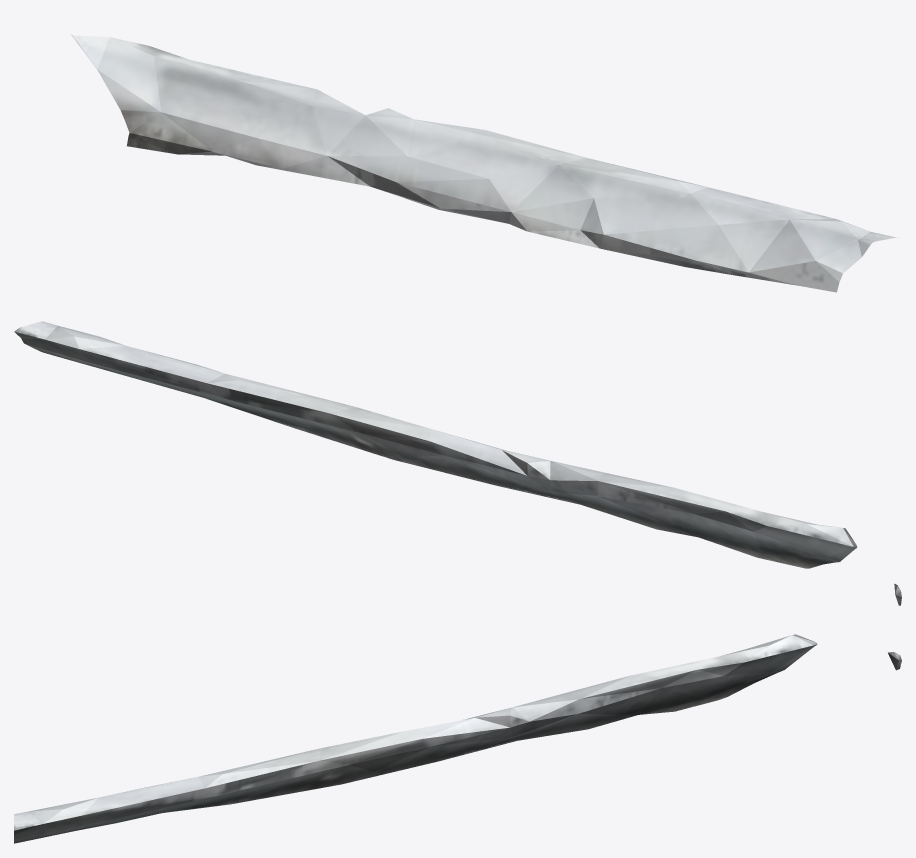
The picture shows the model from 3 angles, top to bottom: view 1: azimuth 30°, elevation 25°; view 2: azimuth 210°, elevation 25°; view 3: azimuth 270°, elevation 25°; orthographic projection. The views are drawn at different scales.
Size of the model in its own units: 1.34 by 0.2245 by 2.61.
Materials: 1 (1 with a texture image).
